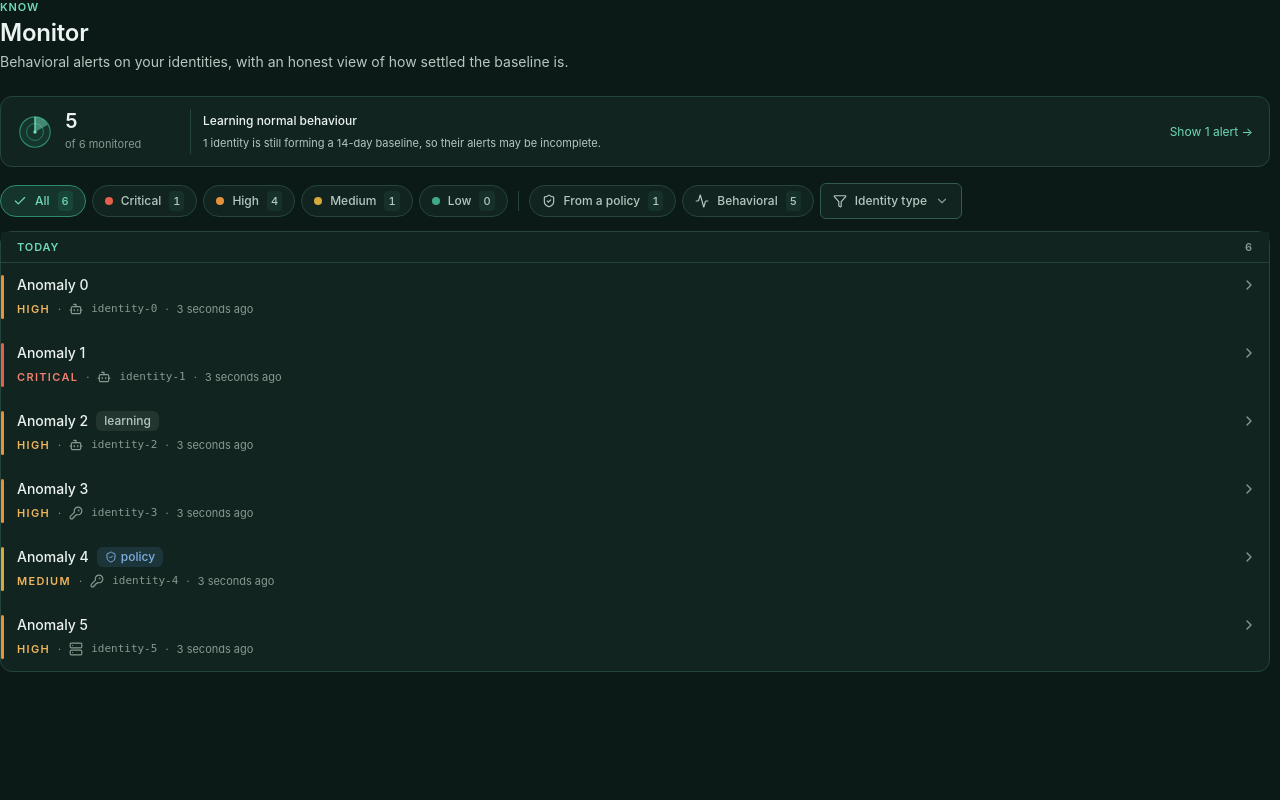
Monitor alert-source filter › counts each type within the active source
Click the button "From a policy 1". click: [602, 201]
box: [529,185,676,217]
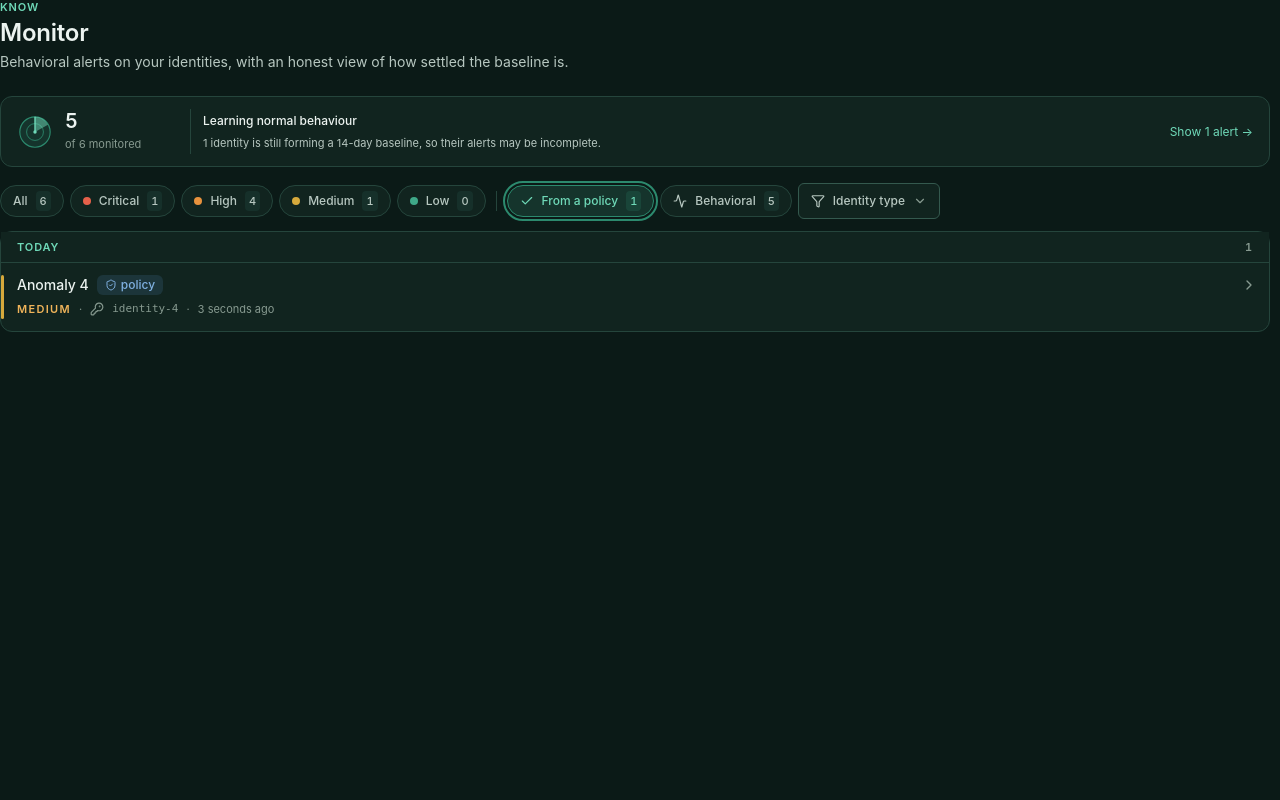
Click the button "Identity type". click: [869, 201]
box: [798,183,940,219]
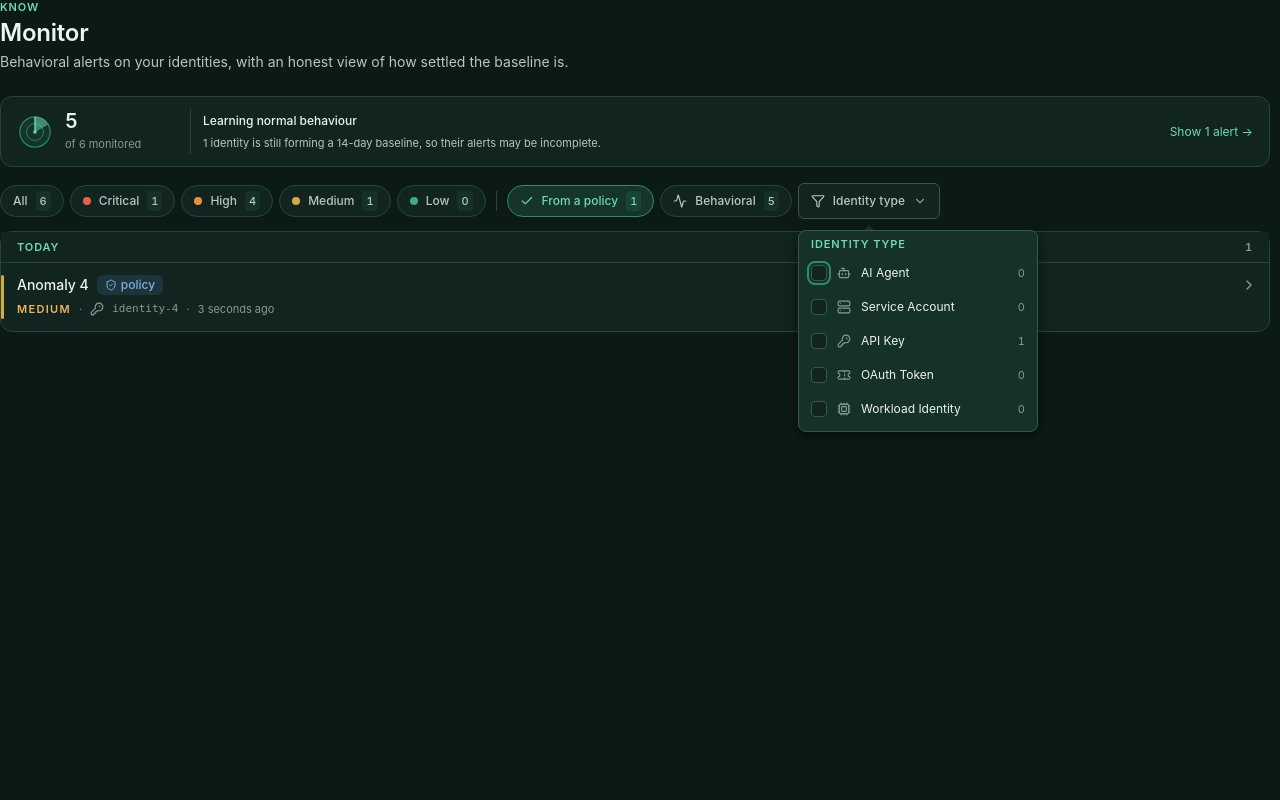
Now the label "API Key" shows "1", box [1018,334,1025,348]
Now the label "AI Agent" shows "0", box [1018,266,1025,280]
